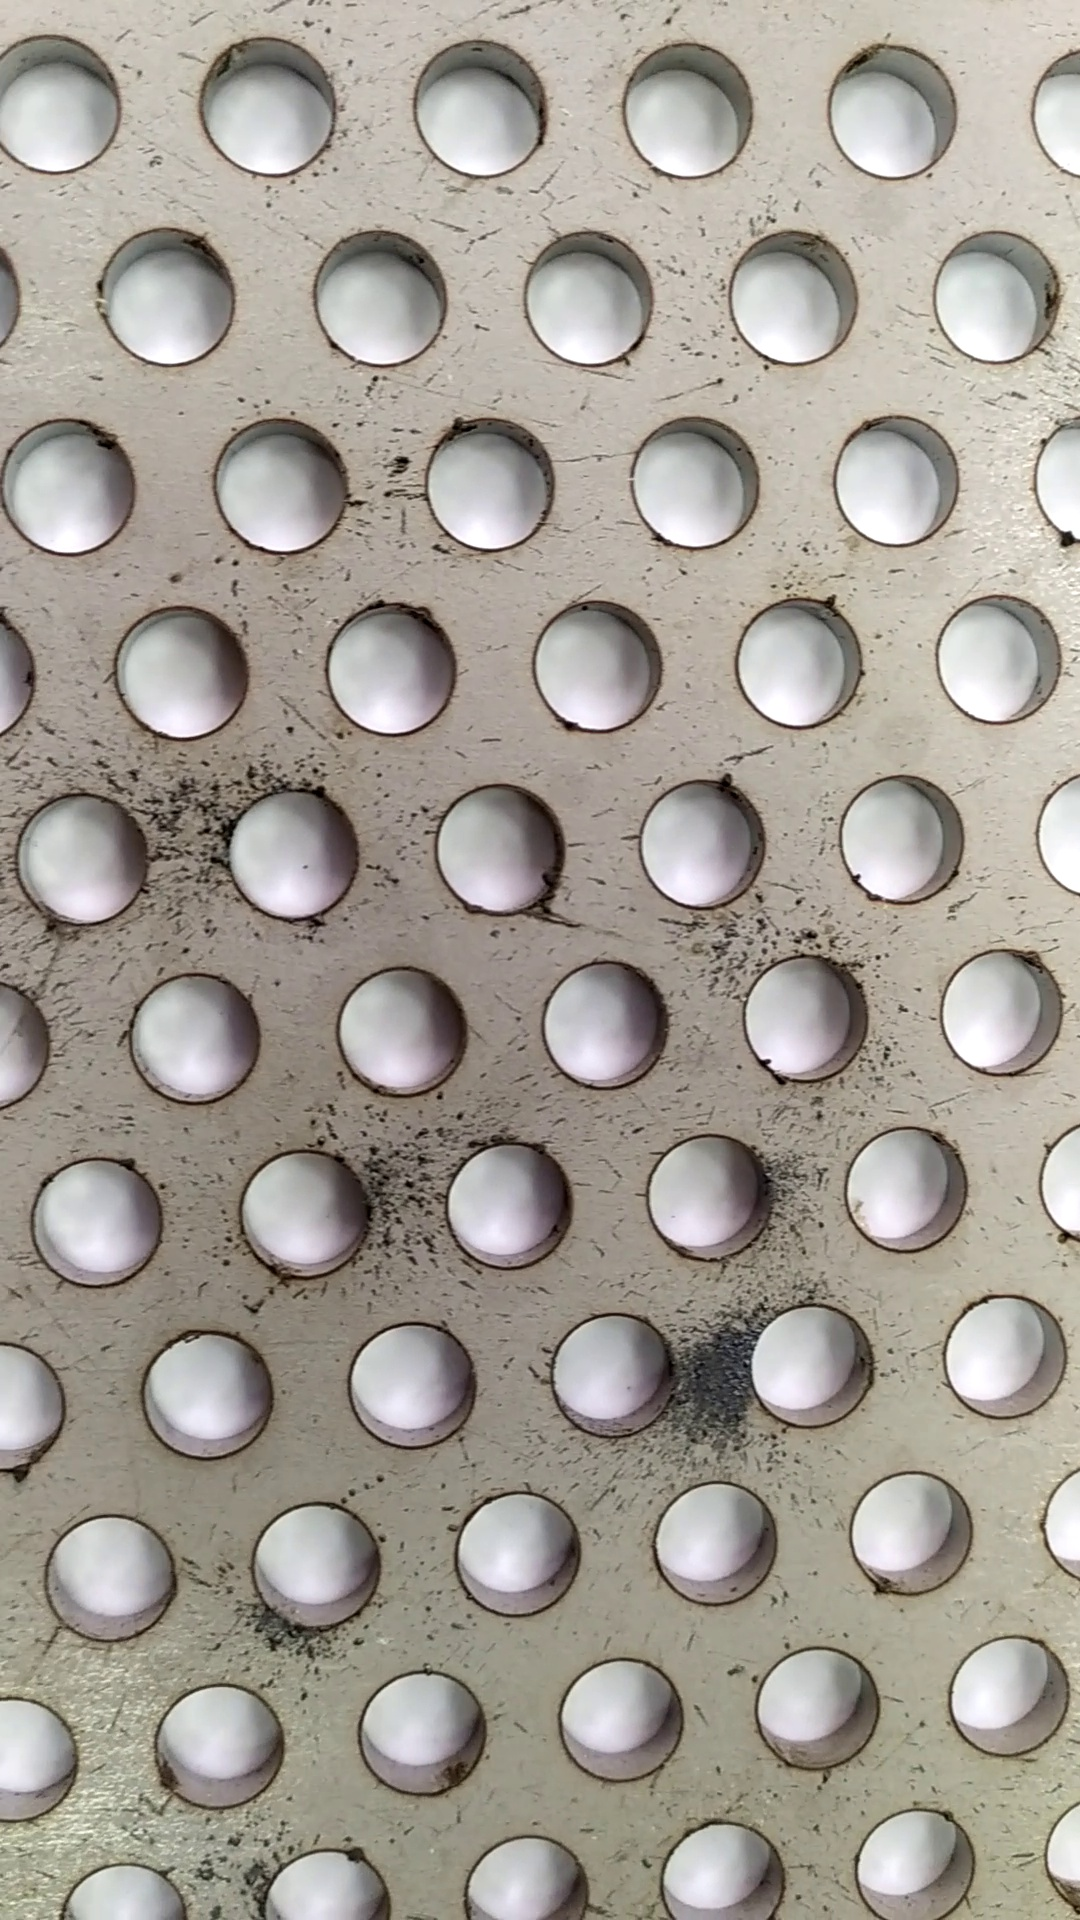Hole: (402, 24, 567, 196), (407, 409, 579, 566), (504, 215, 671, 375), (187, 28, 359, 183), (87, 219, 261, 371), (92, 597, 266, 748), (313, 589, 473, 750), (196, 405, 359, 564), (415, 773, 582, 928), (240, 1480, 402, 1636), (117, 963, 273, 1125), (712, 211, 866, 375), (608, 32, 773, 185), (26, 1497, 187, 1652), (295, 224, 462, 375), (541, 1646, 708, 1793), (343, 1658, 506, 1805), (524, 593, 683, 744), (920, 220, 1080, 368), (440, 1476, 593, 1629), (634, 1120, 785, 1275), (918, 583, 1071, 735), (932, 1279, 1079, 1437), (20, 1146, 171, 1298), (818, 34, 967, 189), (530, 948, 687, 1095), (1, 413, 152, 564), (229, 1138, 381, 1288), (822, 404, 971, 556), (724, 591, 877, 740), (434, 1126, 587, 1273), (7, 781, 161, 926), (324, 960, 479, 1105), (632, 1476, 794, 1613), (836, 1113, 986, 1261), (829, 771, 982, 916), (534, 1303, 687, 1448), (336, 1315, 489, 1460), (727, 949, 880, 1093), (926, 934, 1067, 1089), (630, 766, 777, 915), (220, 779, 371, 924), (618, 411, 767, 556), (841, 1460, 992, 1604), (736, 1636, 889, 1778), (135, 1319, 284, 1462), (140, 1677, 298, 1811), (926, 1629, 1080, 1764), (742, 1295, 881, 1443)
